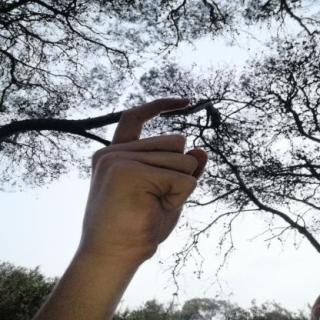RAA: (78, 89, 218, 268)
